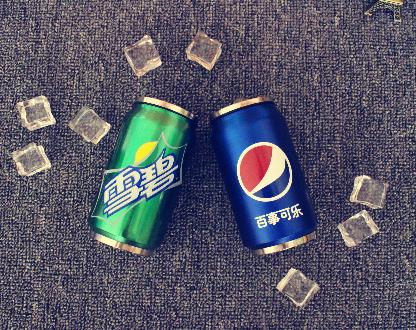Can: (88, 97, 197, 256), (210, 97, 318, 256)
